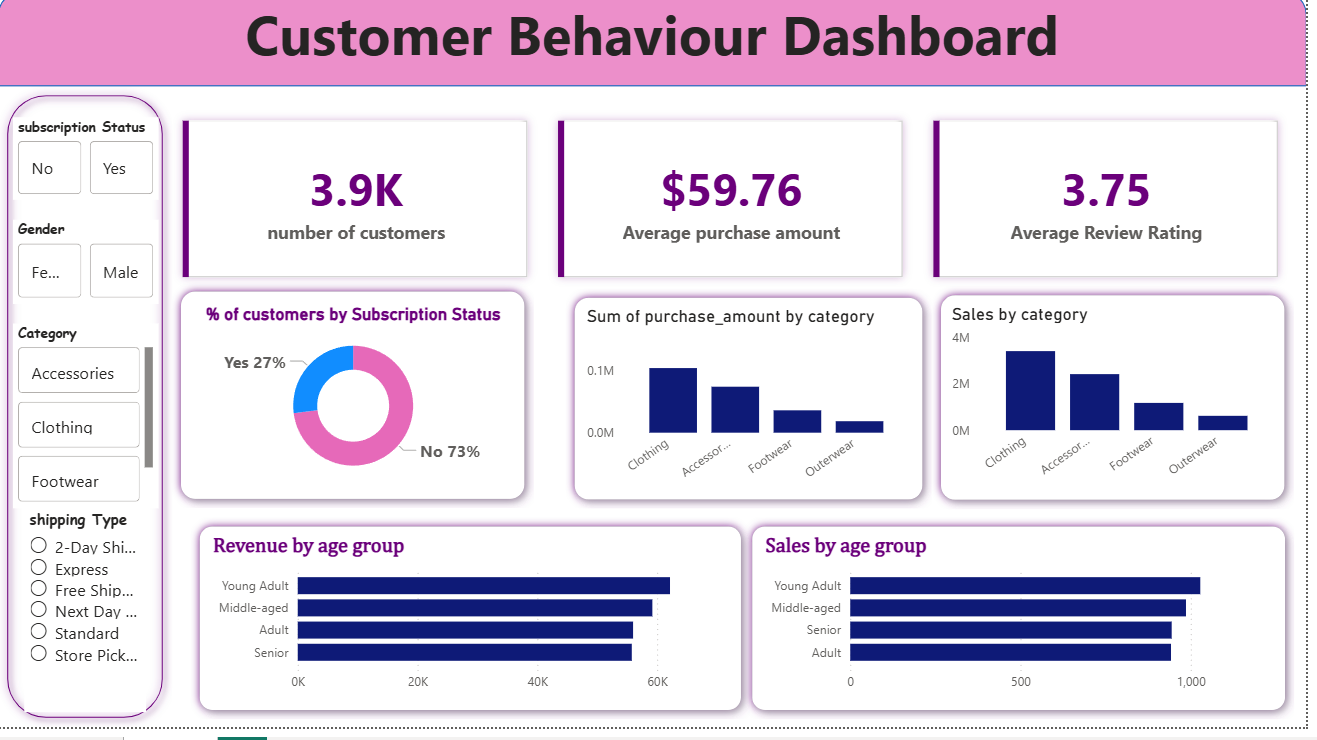

This screenshot's page, from the dashboard's own definition file:
{"tool":"powerbi","page":{"name":"Page 1","canvas":[1280,720],"ordinal":0},"visuals":[{"type":"cardVisual","fields":{"Data":["customer_behavior customer.number of customers","customer_behavior customer.Average purchase amount","customer_behavior customer.Average Review Rating"]},"box":[152.3,98.8,1128,209.9],"z":0},{"type":"shape","box":[0,0,1280.3,93.3],"z":1000},{"type":"textbox","box":[0,0,1280.3,93.3],"z":2000},{"type":"shape","box":[170.2,285.4,354,220.9],"z":3000},{"type":"donutChart","title":"% of  customers by Subscription Status","fields":{"Category":["customer_behavior customer.subscription_status"],"Y":["CountNonNull(customer_behavior customer.customer_id)"]},"box":[186.6,306,321.1,181.1],"z":4000},{"type":"shape","box":[555.7,290.9,358.1,215.4],"z":5000},{"type":"shape","box":[913.9,288.2,354,218.2],"z":6000},{"type":"clusteredColumnChart","fields":{"Y":["Sum(customer_behavior customer.purchase_amount)"],"Category":["customer_behavior customer.category"]},"box":[570.8,308.7,326.6,181.1],"z":7000},{"type":"clusteredColumnChart","title":"Sales by category","fields":{"Y":["Sum(customer_behavior customer.customer_id)"],"Category":["customer_behavior customer.category"]},"box":[927.6,306,326.6,181.1],"z":8000},{"type":"shape","box":[0,93.3,170.2,627.1],"z":9000},{"type":"advancedSlicerVisual","title":"subscription Status","fields":{"Values":["customer_behavior customer.subscription_status"]},"box":[15.1,123.5,142.7,81],"z":10000},{"type":"advancedSlicerVisual","title":"Gender","fields":{"Values":["customer_behavior customer.gender"]},"box":[15.1,223.7,142.7,82.3],"z":11000},{"type":"advancedSlicerVisual","title":"Category","fields":{"Values":["customer_behavior customer.category"]},"box":[15.1,325.2,142.7,181.1],"z":12000},{"type":"listSlicer","title":"shipping Type","fields":{"Values":["customer_behavior customer.shipping_type"]},"box":[26.1,506.3,119.4,199],"z":13000},{"type":"shape","box":[728.6,514.6,539.3,197.6],"z":15000},{"type":"clusteredBarChart","title":"Sales by age group","fields":{"Y":["CountNonNull(customer_behavior customer.customer_id)"],"Category":["customer_behavior customer.age_group"]},"box":[746.5,532.4,507.7,161.9],"z":17000},{"type":"shape","box":[188,514.6,547.5,197.6],"z":17500},{"type":"clusteredBarChart","title":"Revenue by age group","fields":{"Y":["Sum(customer_behavior customer.purchase_amount)"],"Category":["customer_behavior customer.age_group"]},"box":[205.8,532.4,513.2,161.9],"z":18000}]}

Visuals, with their boxes in screenshot pixels (x1, y1, x2, y2), scaled from the page's 1280x720 canvas onto the 1317x740 screenshot:
cardVisual - customer_behavior customer.number of customers x customer_behavior customer.Average purchase amount: crop(157, 102, 1316, 317)
shape: crop(0, 0, 1316, 96)
textbox: crop(0, 0, 1316, 96)
shape: crop(175, 293, 539, 520)
"% of  customers by Subscription Status" donutChart: crop(192, 314, 522, 501)
shape: crop(572, 299, 940, 520)
shape: crop(940, 296, 1305, 520)
clusteredColumnChart - Sum(customer_behavior customer.purchase_amount) x customer_behavior customer.category: crop(587, 317, 923, 503)
"Sales by category" clusteredColumnChart: crop(954, 314, 1290, 501)
shape: crop(0, 96, 175, 739)
"subscription Status" advancedSlicerVisual: crop(16, 127, 162, 210)
"Gender" advancedSlicerVisual: crop(16, 230, 162, 314)
"Category" advancedSlicerVisual: crop(16, 334, 162, 520)
"shipping Type" listSlicer: crop(27, 520, 150, 725)
shape: crop(750, 529, 1305, 732)
"Sales by age group" clusteredBarChart: crop(768, 547, 1290, 714)
shape: crop(193, 529, 757, 732)
"Revenue by age group" clusteredBarChart: crop(212, 547, 740, 714)
